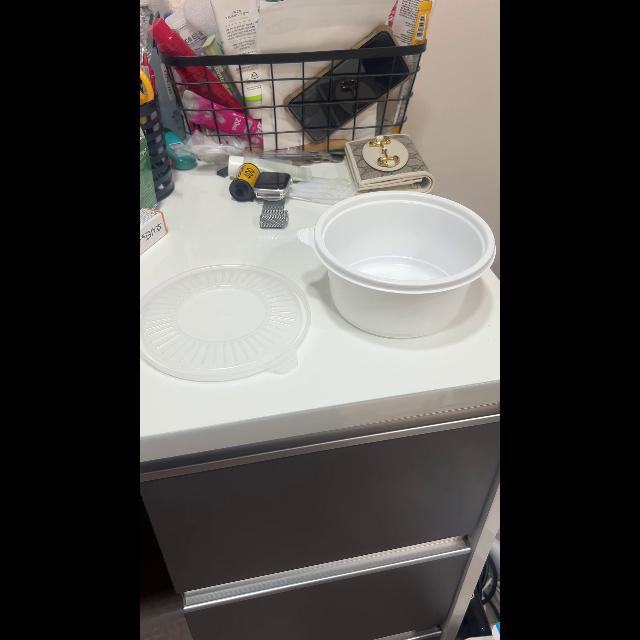clean: (317, 192, 491, 344), (148, 258, 310, 384)
